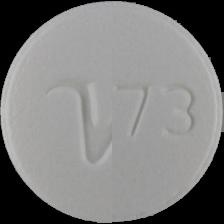64205-212: (0, 0, 224, 224)
